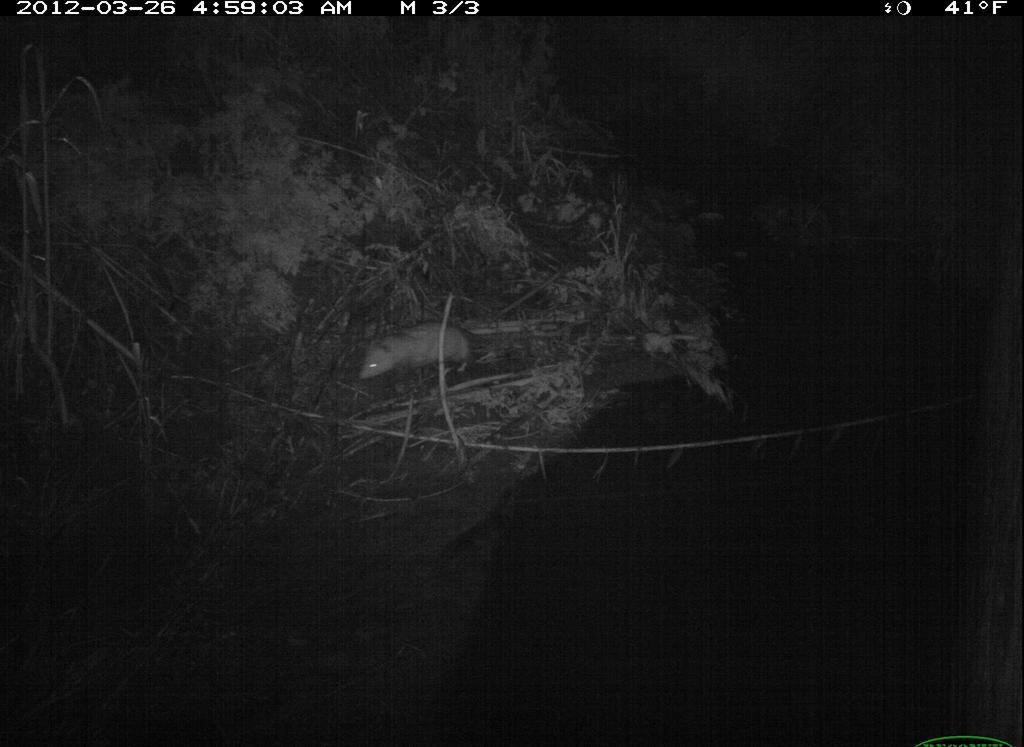opossum: (351, 317, 515, 393)
